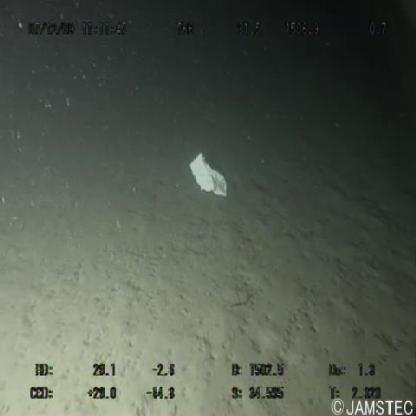Rác: (185, 150, 234, 205)
